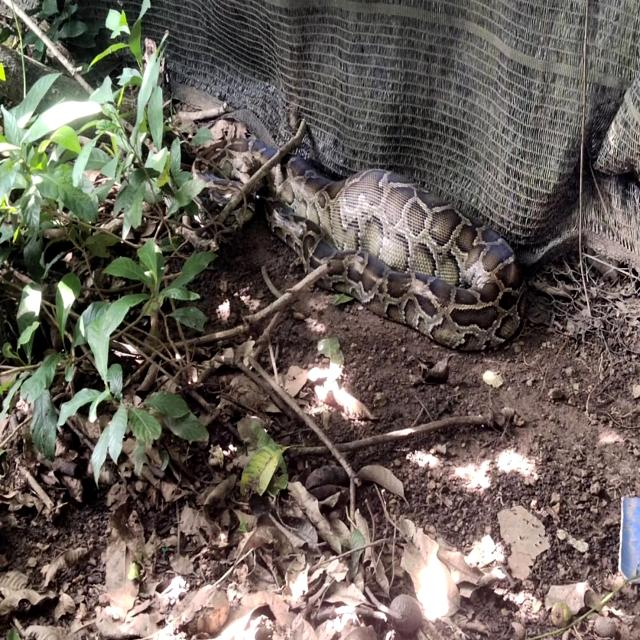Python bivittatus: (265, 155, 524, 350)
snake: (265, 155, 524, 350)
